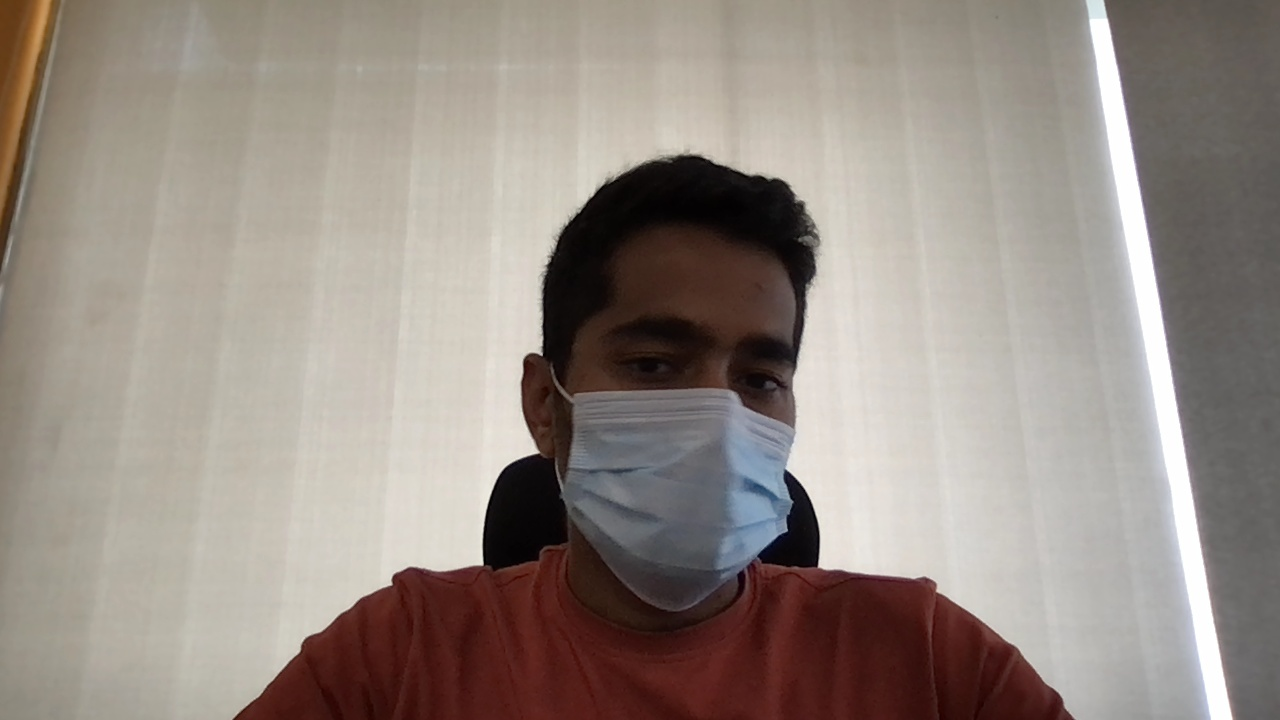mask: (564, 387, 797, 613)
